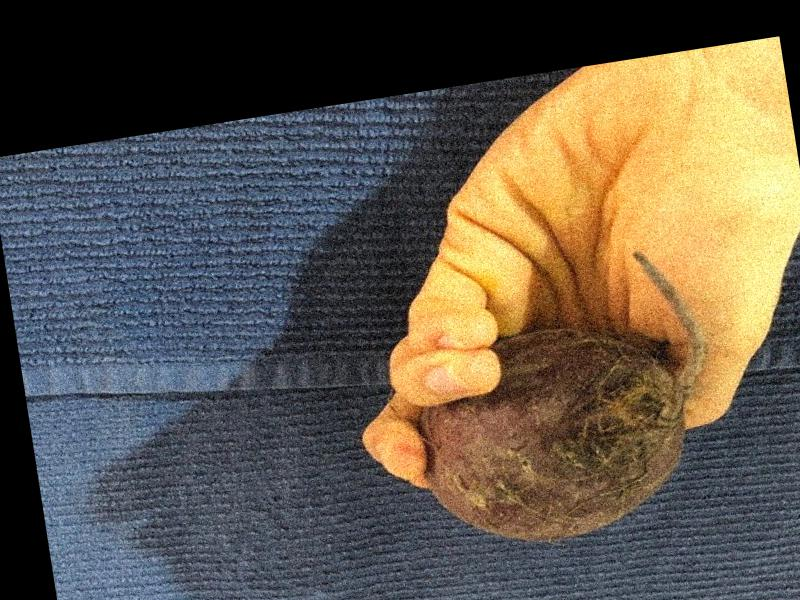Beet: (396, 239, 728, 555)
